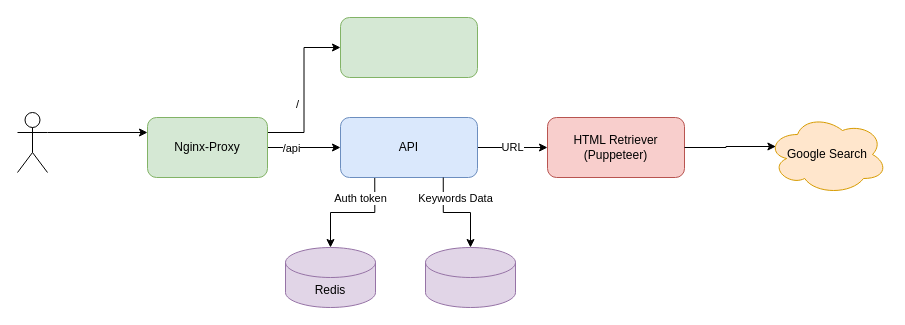
The diagram is 905 pixels wide and 325 high, and some of its shapes have lost their labels. The shapes that lost their labels are listed below. From the top down, each one's box as (x1, y1, x2, y2) in pixels, then its label:
(340, 16, 478, 78): Web (Static serve by NGINX)
(16, 112, 48, 172): User
(424, 246, 516, 308): Postgresql
